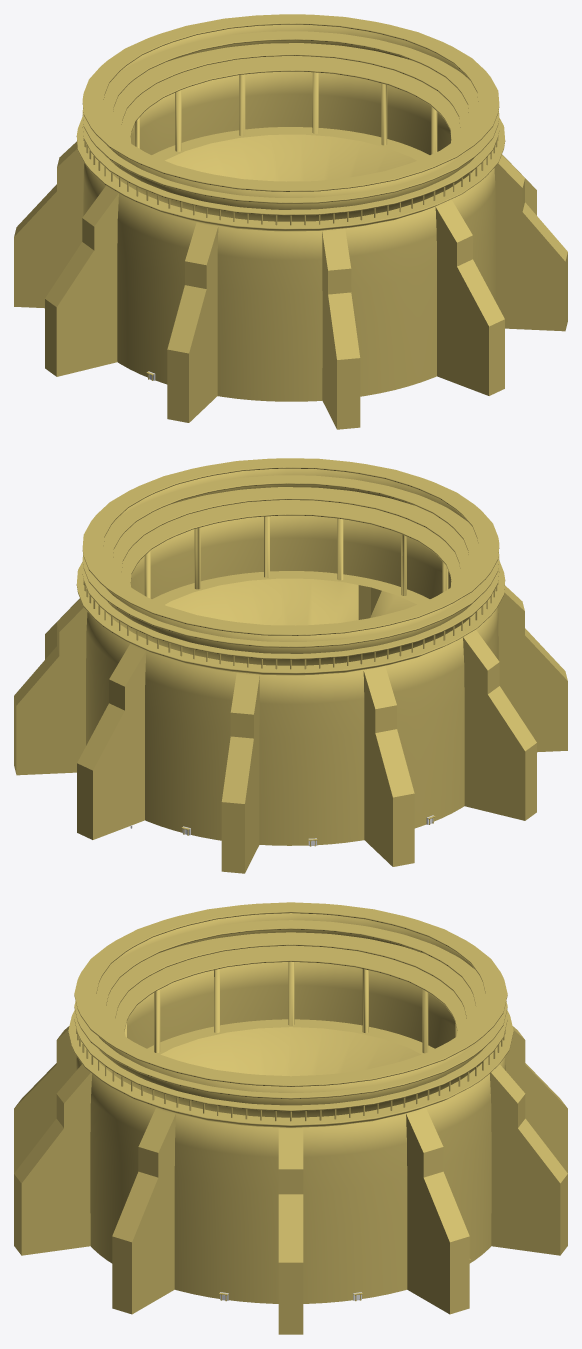
Rendered from PurgatoryArena.fbx.
3 views of the same model, one above another, from view 1: azimuth 30°, elevation 25°; view 2: azimuth 150°, elevation 25°; view 3: azimuth 270°, elevation 25° (orthographic). The views are drawn at different scales.
Parts seen in each view (by area): view 1: OuterArenaWalls, Walls, Tribune, Pillar2_Large pillars, Pillar1_OuterWalls; view 2: OuterArenaWalls, Walls, Tribune, Pillar2_Large pillars, Pillar1_OuterWalls; view 3: OuterArenaWalls, Walls, Tribune, Pillar2_Large pillars, Pillar1_OuterWalls.
Part boxes in pixels (bbox=[...]): OuterArenaWalls: bbox=[76, 14, 505, 401]; Walls: bbox=[14, 141, 567, 429]; Tribune: bbox=[152, 127, 429, 181]; Pillar2_Large pillars: bbox=[134, 72, 437, 154]; Pillar1_OuterWalls: bbox=[83, 137, 498, 225]; OuterArenaWalls: bbox=[76, 458, 505, 845]; Walls: bbox=[14, 585, 567, 873]; Tribune: bbox=[152, 571, 429, 625]; Pillar2_Large pillars: bbox=[144, 516, 448, 598]; Pillar1_OuterWalls: bbox=[83, 581, 498, 669]; OuterArenaWalls: bbox=[68, 902, 513, 1303]; Walls: bbox=[14, 1026, 567, 1334]; Tribune: bbox=[147, 1019, 434, 1076]; Pillar2_Large pillars: bbox=[124, 961, 457, 1053]; Pillar1_OuterWalls: bbox=[76, 1029, 505, 1121].
Size of the model in its own units: 33939 by 14302 by 32727.
